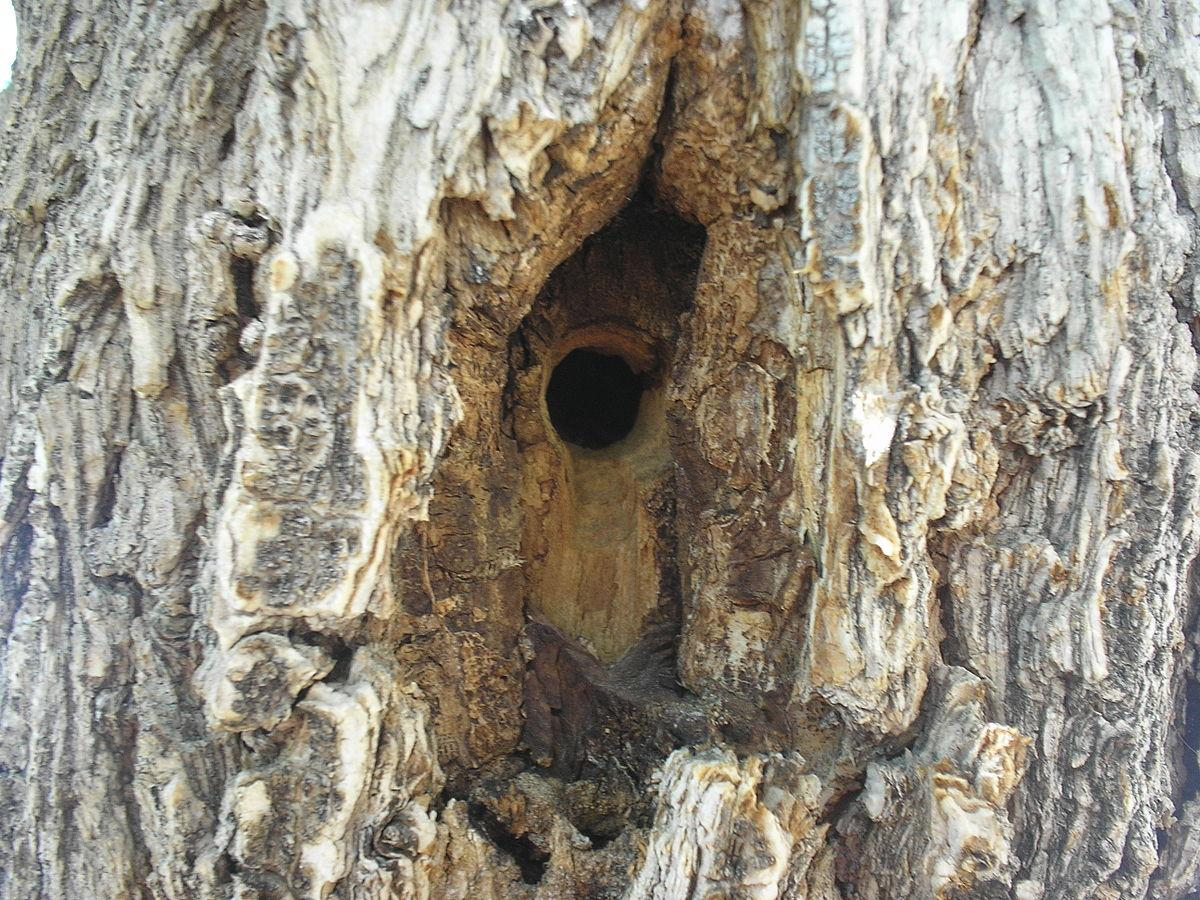hollow: (453, 96, 785, 783)
